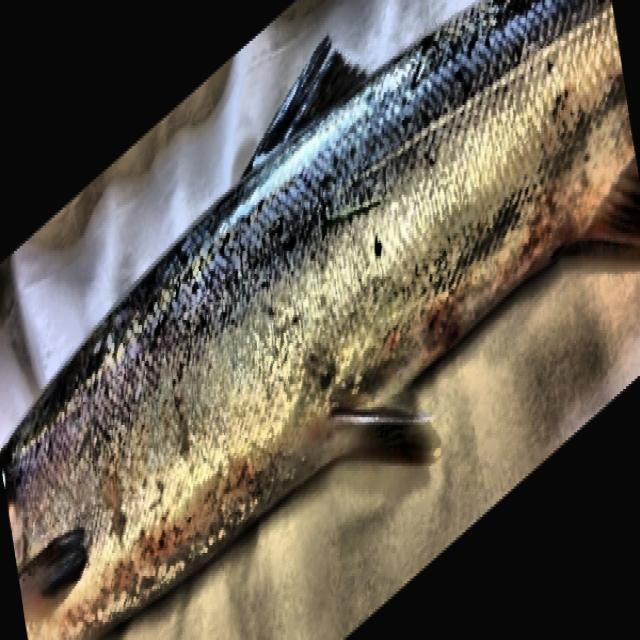mild_red: (0, 0, 635, 637)
